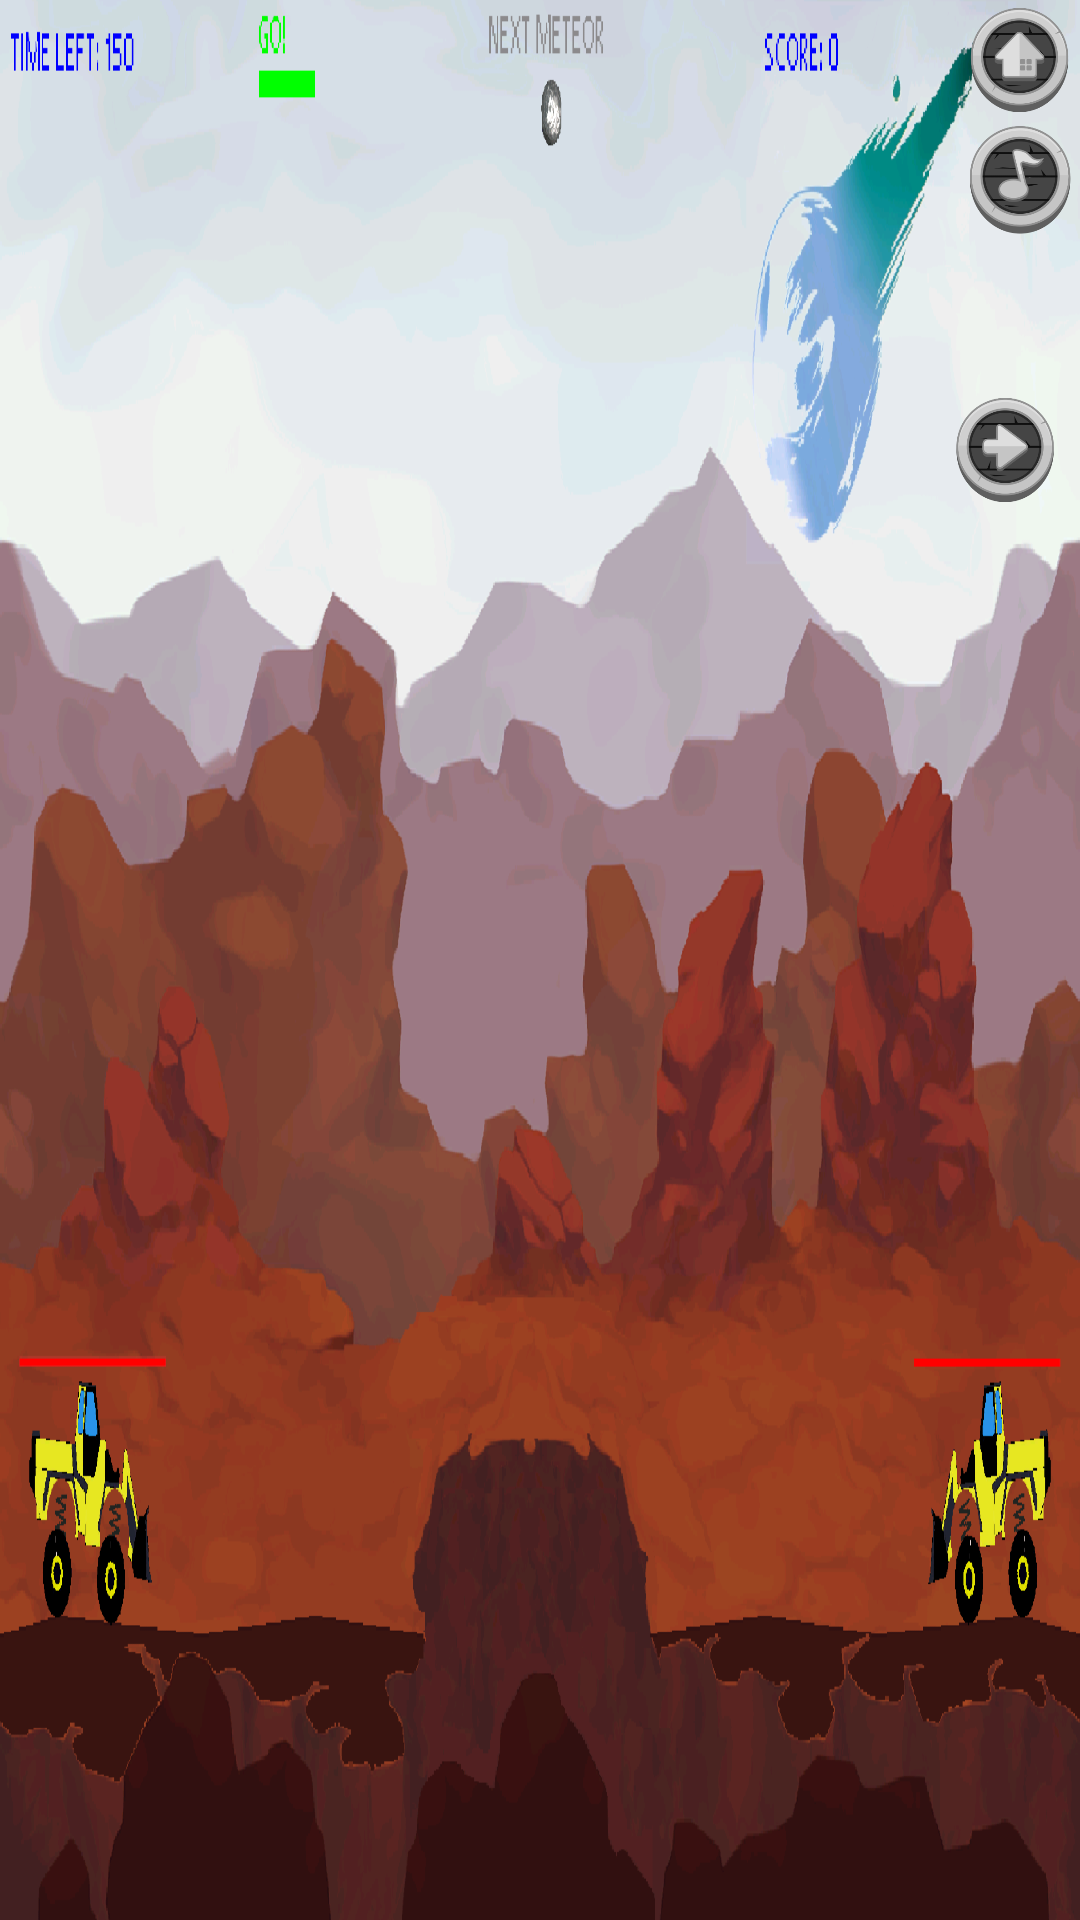

Where to tap for icons on this 1080x1920 app screen, as (x,y):
Audio button: (1020,180)
Home button: (1014,56)
Next button: (1005,450)
